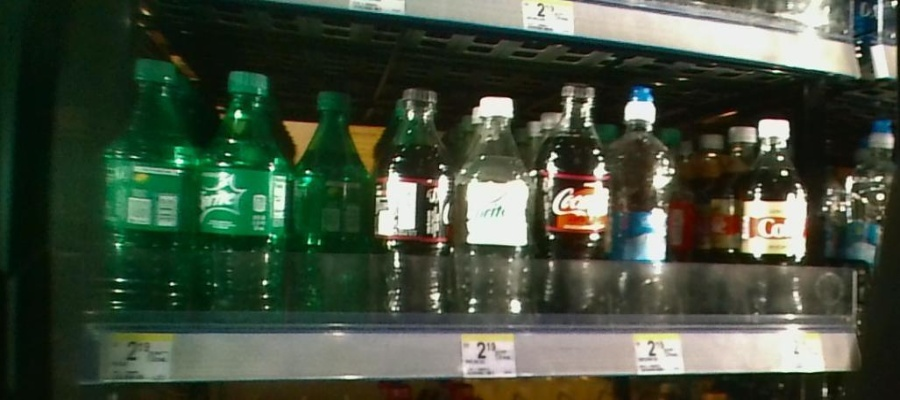bottle: (100, 49, 195, 322), (199, 51, 291, 324), (373, 74, 455, 323), (296, 80, 373, 324), (538, 81, 613, 321), (459, 86, 533, 319), (613, 78, 677, 330), (733, 113, 807, 326)
